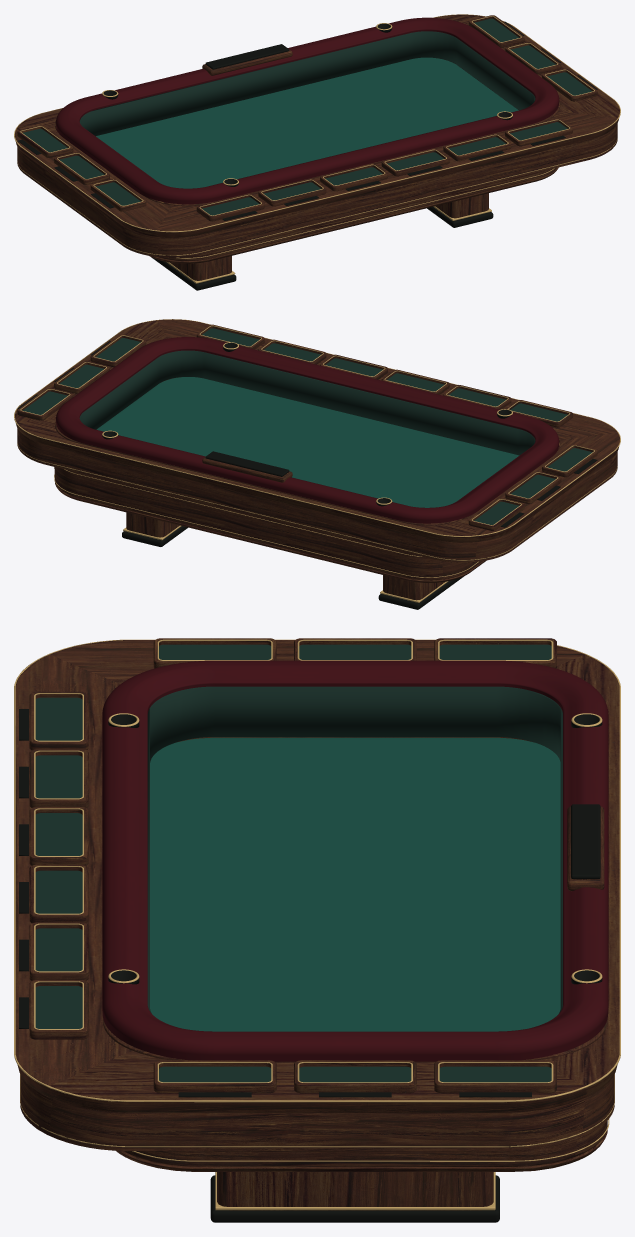
Rendered from table-player-rails-optimized.glb.
3 views of the same model, one above another, from view 1: azimuth 30°, elevation 25°; view 2: azimuth 150°, elevation 25°; view 3: azimuth 270°, elevation 25° (orthographic). The views are drawn at different scales.
Parts seen in each view (by area): view 1: Optimized Hand-polished dark walnut, Optimized Deep pine baize, Optimized Deep oxblood leather, Optimized Dark pine pyramid bounce rubber, Optimized Player tray suede, Optimized Aged champagne brass, Optimized Dark recessed cup wells; view 2: Optimized Hand-polished dark walnut, Optimized Deep pine baize, Optimized Deep oxblood leather, Optimized Dark pine pyramid bounce rubber, Optimized Player tray suede, Optimized Aged champagne brass, Optimized Dark recessed cup wells; view 3: Optimized Deep pine baize, Optimized Hand-polished dark walnut, Optimized Deep oxblood leather, Optimized Player tray suede, Optimized Dark pine pyramid bounce rubber, Optimized Aged champagne brass, Optimized Dark recessed cup wells.
Part boxes in pixels (x1=…): Optimized Hand-polished dark walnut: x1=15, y1=14, x2=619, y2=280; Optimized Deep pine baize: x1=96, y1=57, x2=518, y2=188; Optimized Deep oxblood leather: x1=56, y1=17, x2=559, y2=204; Optimized Dark pine pyramid bounce rubber: x1=79, y1=31, x2=535, y2=136; Optimized Player tray suede: x1=23, y1=18, x2=592, y2=215; Optimized Aged champagne brass: x1=14, y1=14, x2=620, y2=283; Optimized Dark recessed cup wells: x1=18, y1=21, x2=597, y2=290; Optimized Hand-polished dark walnut: x1=15, y1=319, x2=619, y2=600; Optimized Deep pine baize: x1=96, y1=377, x2=519, y2=507; Optimized Deep oxblood leather: x1=56, y1=337, x2=559, y2=523; Optimized Dark pine pyramid bounce rubber: x1=79, y1=350, x2=535, y2=455; Optimized Player tray suede: x1=22, y1=328, x2=592, y2=524; Optimized Aged champagne brass: x1=14, y1=319, x2=620, y2=602; Optimized Dark recessed cup wells: x1=17, y1=341, x2=597, y2=609; Optimized Deep pine baize: x1=150, y1=737, x2=560, y2=1031; Optimized Hand-polished dark walnut: x1=15, y1=638, x2=619, y2=1210; Optimized Deep oxblood leather: x1=102, y1=660, x2=608, y2=1061; Optimized Player tray suede: x1=35, y1=644, x2=551, y2=1082; Optimized Dark pine pyramid bounce rubber: x1=147, y1=686, x2=562, y2=1013; Optimized Aged champagne brass: x1=14, y1=639, x2=620, y2=1210; Optimized Dark recessed cup wells: x1=19, y1=709, x2=602, y2=1222.
Size of the model in its own units: 14.41 by 3.57 by 8.01.
7 materials, 2 textured.
